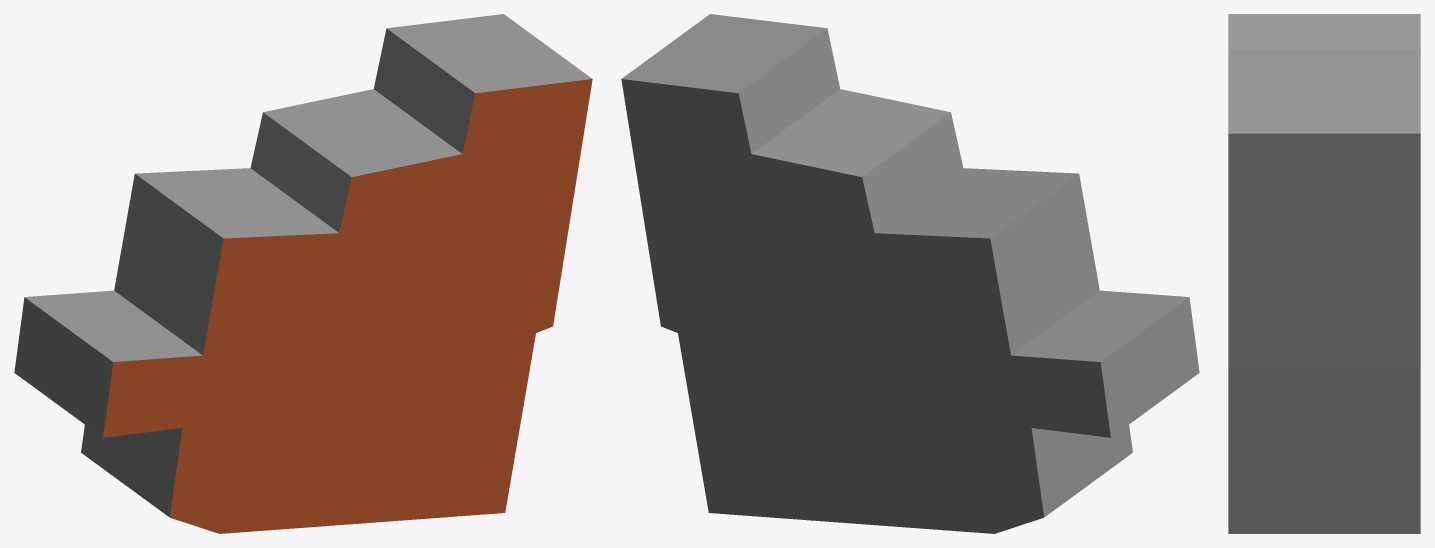
Rendered from construction_2708_assumed_A_Casa_h6m.obj.
3 views of the same model, side by side, from view 1: azimuth 30°, elevation 25°; view 2: azimuth 150°, elevation 25°; view 3: azimuth 270°, elevation 25° (orthographic). The views are drawn at different scales.
Parts seen in each view (by area): view 1: construction_2708_assumed_A_Casa; view 2: construction_2708_assumed_A_Casa; view 3: construction_2708_assumed_A_Casa.
Part boxes in pixels (box(x1,y1,x2,y2)): construction_2708_assumed_A_Casa: box(14, 14, 592, 533); construction_2708_assumed_A_Casa: box(621, 14, 1199, 533); construction_2708_assumed_A_Casa: box(1228, 14, 1420, 533).
Bounding box in the file's own units: 19.09 × 15.91 × 6.
